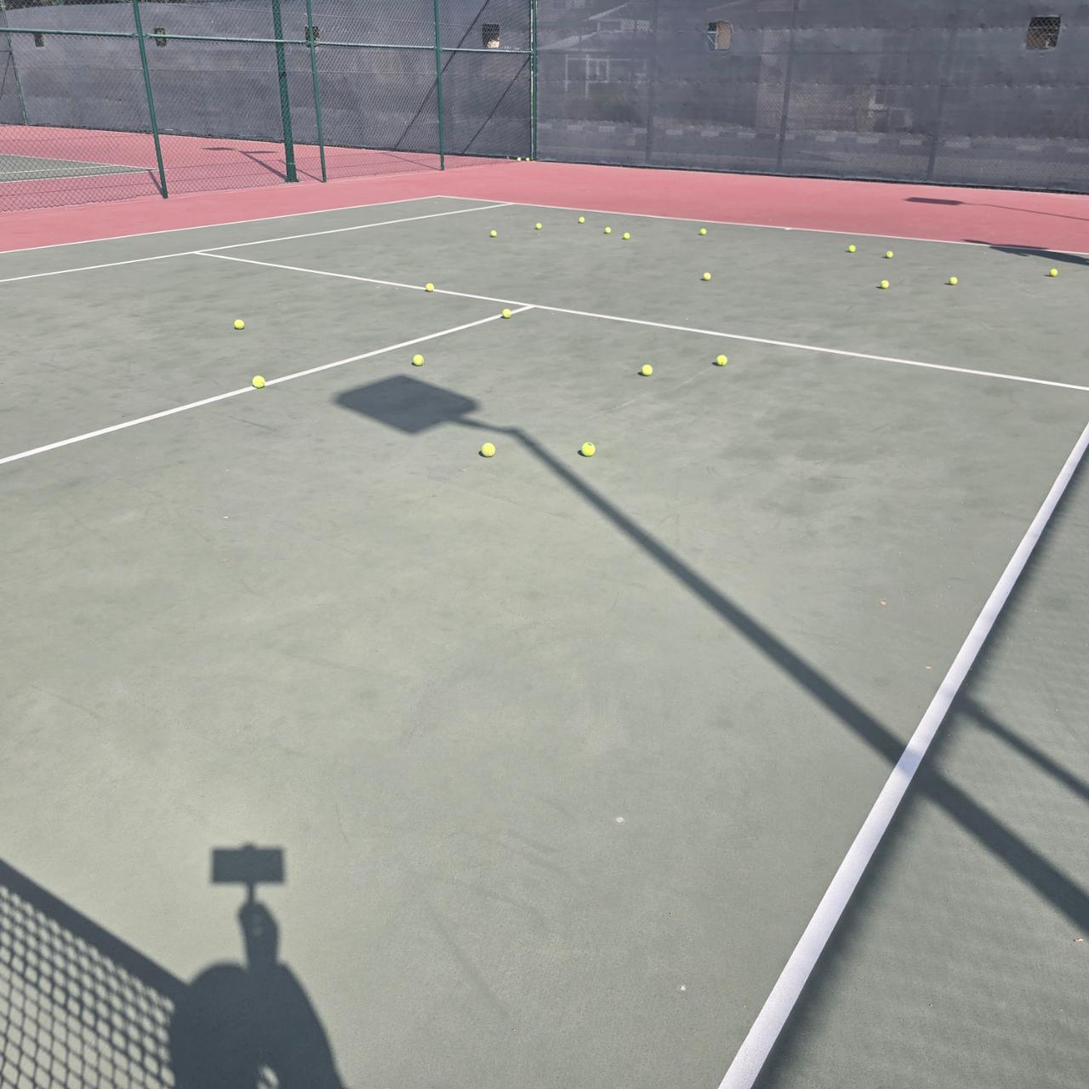tennis-ball: (478, 440, 495, 458), (579, 440, 596, 457), (250, 373, 265, 388), (637, 362, 653, 376), (713, 352, 727, 366), (412, 355, 424, 367), (233, 318, 244, 329), (879, 279, 890, 289), (502, 308, 512, 318), (1048, 267, 1058, 276), (426, 283, 435, 292), (948, 277, 958, 285), (703, 272, 711, 280), (885, 251, 893, 259), (604, 226, 611, 234), (848, 245, 856, 252), (490, 230, 497, 237), (700, 228, 707, 235), (535, 223, 542, 229), (578, 217, 585, 223), (624, 233, 630, 239), (526, 157, 530, 161), (517, 158, 521, 161)
